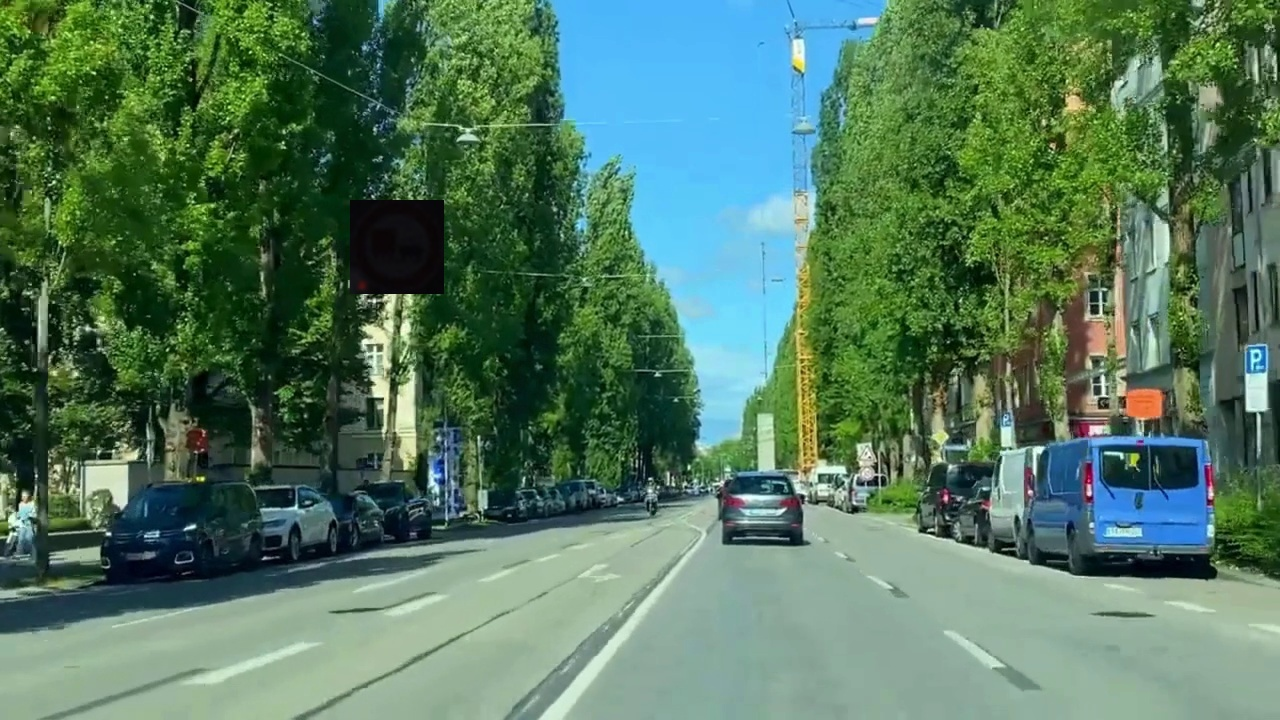No pass >3.5t: (350, 200, 444, 294)
